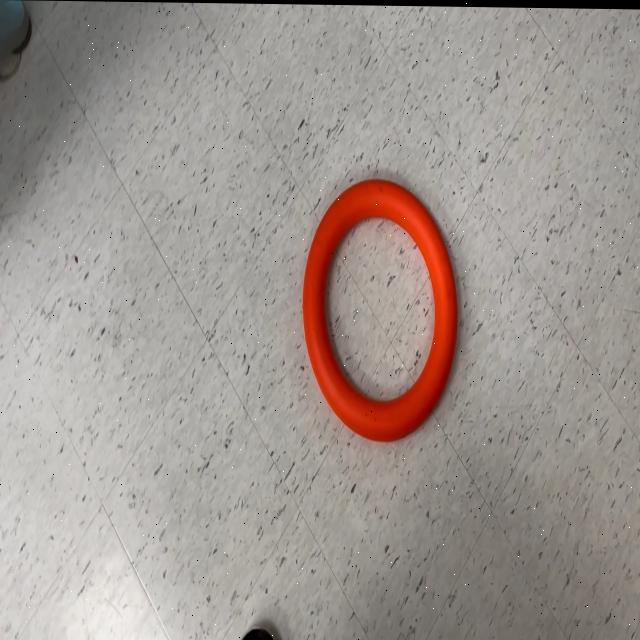note: (302, 177, 457, 442)
